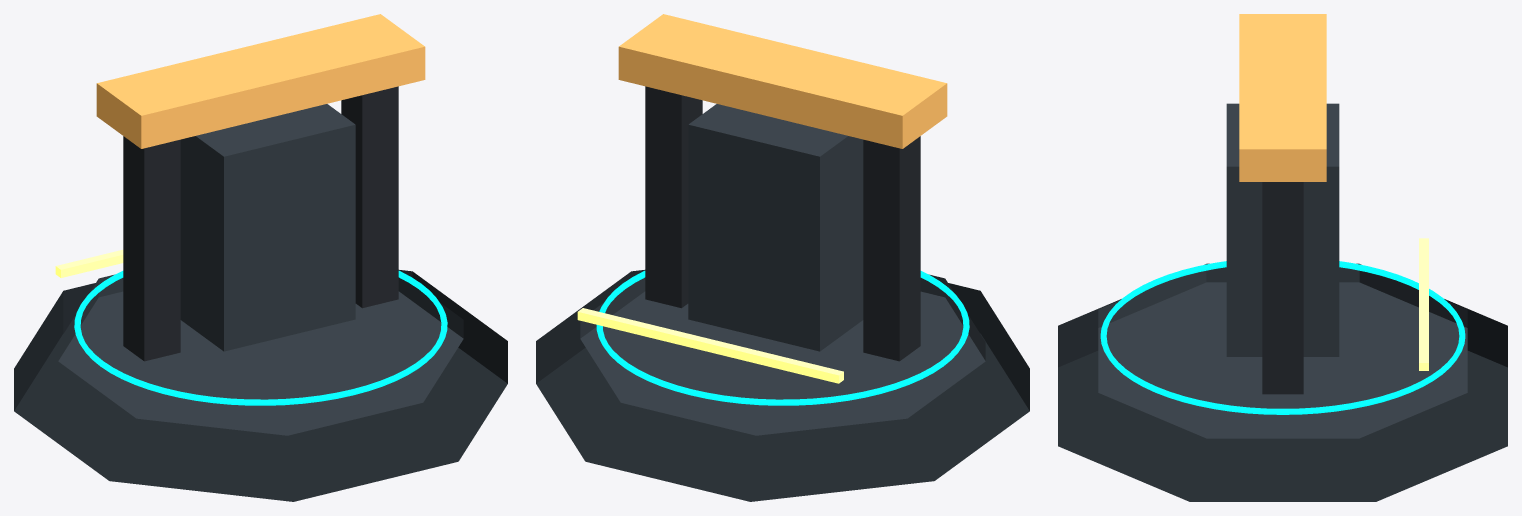
File: district_governance.glb
The picture shows the model from 3 angles, left to right: view 1: azimuth 30°, elevation 25°; view 2: azimuth 150°, elevation 25°; view 3: azimuth 270°, elevation 25°; orthographic projection. The views are drawn at different scales.
Visible parts, largest first — view 1: district_governance_octagonal_base, district_governance_central_hall, district_governance_upper_plate, district_governance_formal_capstone, district_governance_left_pillar, district_governance_right_pillar, district_governance_base_cyan_circuit, district_governance_amber_floor_line; view 2: district_governance_octagonal_base, district_governance_central_hall, district_governance_upper_plate, district_governance_formal_capstone, district_governance_left_pillar, district_governance_right_pillar, district_governance_base_cyan_circuit, district_governance_amber_floor_line; view 3: district_governance_upper_plate, district_governance_octagonal_base, district_governance_central_hall, district_governance_formal_capstone, district_governance_right_pillar, district_governance_base_cyan_circuit, district_governance_amber_floor_line.
Boxes of the visible parts, left/top/right/bottom form: district_governance_octagonal_base: left=14, top=270, right=507, bottom=501; district_governance_central_hall: left=180, top=104, right=355, bottom=351; district_governance_upper_plate: left=58, top=274, right=463, bottom=435; district_governance_formal_capstone: left=96, top=14, right=425, bottom=148; district_governance_left_pillar: left=123, top=136, right=180, bottom=361; district_governance_right_pillar: left=341, top=86, right=398, bottom=308; district_governance_base_cyan_circuit: left=74, top=270, right=447, bottom=405; district_governance_amber_floor_line: left=55, top=249, right=123, bottom=277; district_governance_octagonal_base: left=536, top=270, right=1029, bottom=501; district_governance_central_hall: left=688, top=104, right=863, bottom=351; district_governance_upper_plate: left=580, top=274, right=985, bottom=435; district_governance_formal_capstone: left=618, top=14, right=947, bottom=148; district_governance_left_pillar: left=863, top=136, right=920, bottom=361; district_governance_right_pillar: left=645, top=86, right=702, bottom=308; district_governance_base_cyan_circuit: left=596, top=270, right=969, bottom=405; district_governance_amber_floor_line: left=577, top=308, right=843, bottom=383; district_governance_upper_plate: left=1098, top=263, right=1467, bottom=438; district_governance_octagonal_base: left=1058, top=299, right=1507, bottom=501; district_governance_central_hall: left=1226, top=103, right=1339, bottom=356; district_governance_formal_capstone: left=1239, top=14, right=1326, bottom=181; district_governance_right_pillar: left=1262, top=182, right=1303, bottom=394; district_governance_base_cyan_circuit: left=1100, top=261, right=1465, bottom=414; district_governance_amber_floor_line: left=1419, top=238, right=1428, bottom=370.
Bounding box in the file's own units: 1.76 × 1.4 × 1.76.
